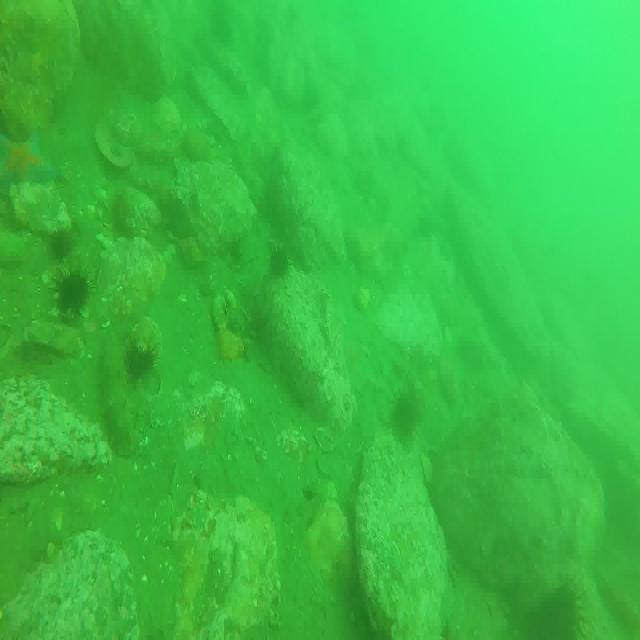echinus: (541, 583, 581, 640), (390, 386, 421, 438), (58, 272, 92, 314), (128, 340, 155, 384), (49, 227, 73, 260), (269, 242, 289, 277)
starfish: (0, 133, 64, 203)
